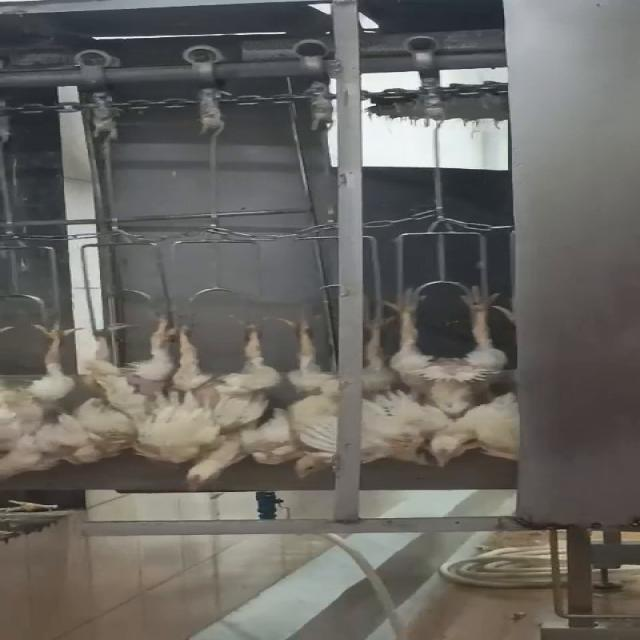chicken: (162, 310, 272, 496), (423, 278, 521, 476), (67, 307, 186, 467), (359, 289, 448, 466), (0, 313, 83, 484), (279, 304, 350, 488)
